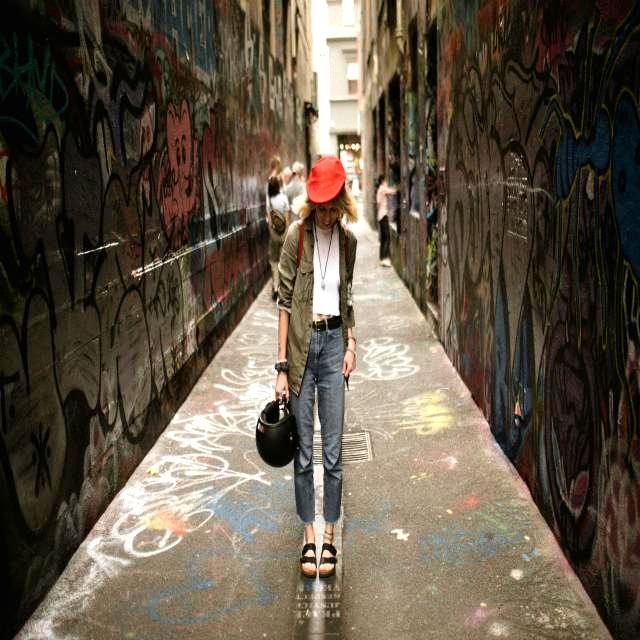no_hard_hat: (306, 156, 346, 203), (292, 161, 304, 173)
no_head_wear: (268, 176, 281, 198), (377, 173, 385, 187), (293, 180, 300, 189)
person: (250, 153, 360, 579), (267, 166, 290, 302), (376, 180, 397, 221), (285, 176, 305, 205)
